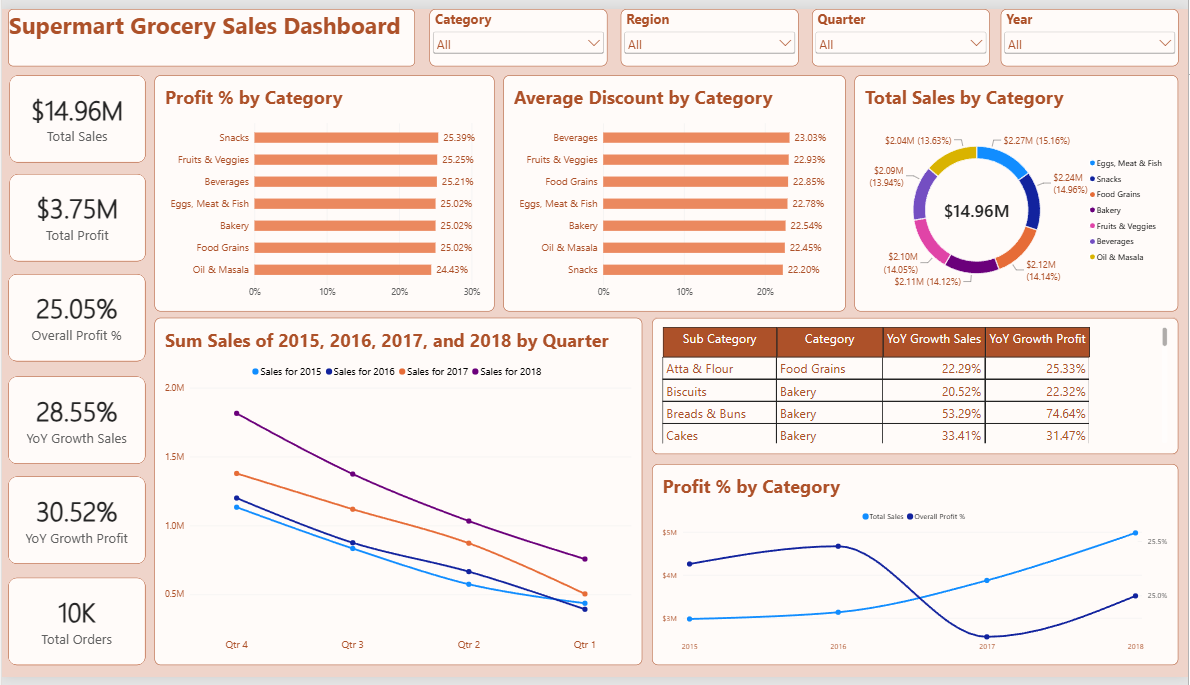

The dashboard page shown, as its layout file describes it:
{"tool":"powerbi","page":{"name":"Page 1","canvas":[1920,1080],"ordinal":0},"visuals":[{"type":"textbox","box":[10.3,0,658.7,92.6],"z":0},{"type":"slicer","fields":{"Values":["Sales.Region"]},"box":[1002.4,0,288.2,92.6],"z":1000},{"type":"slicer","fields":{"Values":["DimDate.Quarter"]},"box":[1311.2,0,288.2,92.6],"z":2000},{"type":"slicer","fields":{"Values":["DimDate.Year"]},"box":[1617.8,0,288.2,92.6],"z":3000},{"type":"slicer","fields":{"Values":["Sales.Category"]},"box":[691.6,0,288.2,92.6],"z":4000},{"type":"cardVisual","fields":{"Data":["Sales.Total Sales"]},"box":[12.1,107.3,220.6,141.7],"z":5000},{"type":"cardVisual","fields":{"Data":["Sales.Total Profit"]},"box":[12.1,267.1,220.6,141.7],"z":6000},{"type":"cardVisual","fields":{"Data":["Sales.Overall Profit %"]},"box":[10.1,429,222.6,141.7],"z":7000},{"type":"cardVisual","fields":{"Data":["Sales.YoY Growth Sales % (Card)"]},"box":[10.1,594.9,222.6,141.7],"z":8000},{"type":"cardVisual","fields":{"Data":["Sales.YoY Growth Profit % (Card)"]},"box":[10.1,756.8,222.6,141.7],"z":9000},{"type":"cardVisual","fields":{"Data":["Sales.Total Orders"]},"box":[10.1,920.7,222.6,141.7],"z":10000},{"type":"clusteredBarChart","title":"Profit % by Category","fields":{"Category":["Sales.Category"],"Y":["Sales.Overall Profit %"]},"box":[246.9,107.3,550.4,382.5],"z":12000},{"type":"clusteredBarChart","title":"Average Discount by Category","fields":{"Category":["Sales.Category"],"Y":["Sales.Avg Discount"]},"box":[811.5,107.3,554.5,382.5],"z":13000},{"type":"donutChart","title":"Total Sales by Category","fields":{"Category":["Sales.Category"],"Y":["Sales.Total Sales"]},"box":[1380.1,107.3,524.1,382.5],"z":14000},{"type":"lineChart","title":"Sum Sales of 2015, 2016, 2017,  and 2018 by Quarter","fields":{"Category":["DimDate.Quarter"],"Y":["Sales.Sales for 2015","Sales.Sales for 2016","Sales.Sales for 2017","Sales.Sales for 2018"]},"box":[246.9,499.8,789.2,562.6],"z":15000},{"type":"lineChart","title":"Profit % by Category","fields":{"Category":["DimDate.Year"],"Y":["Sales.Total Sales"],"Y2":["Sales.Overall Profit %"]},"box":[1052.3,736.6,851.9,325.8],"z":16000},{"type":"tableEx","title":"Profit % by Category","fields":{"Values":["Sales.Sub Category","Sales.Category","Sales.YoY Growth Sales","Sales.YoY Growth Profit"]},"box":[1052.3,499.8,851.9,220.6],"z":17000}]}

Visuals, with their boxes in screenshot pixels (x1, y1, x2, y2), scaled from the page's 1920x1080 canvas onto the 1190x685 screenshot:
textbox: <region>6, 0, 415, 59</region>
slicer - Sales.Region: <region>621, 0, 800, 59</region>
slicer - DimDate.Quarter: <region>813, 0, 991, 59</region>
slicer - DimDate.Year: <region>1003, 0, 1181, 59</region>
slicer - Sales.Category: <region>429, 0, 607, 59</region>
cardVisual - Sales.Total Sales: <region>7, 68, 144, 158</region>
cardVisual - Sales.Total Profit: <region>7, 169, 144, 259</region>
cardVisual - Sales.Overall Profit %: <region>6, 272, 144, 362</region>
cardVisual - Sales.YoY Growth Sales % (Card): <region>6, 377, 144, 467</region>
cardVisual - Sales.YoY Growth Profit % (Card): <region>6, 480, 144, 570</region>
cardVisual - Sales.Total Orders: <region>6, 584, 144, 674</region>
"Profit % by Category" clusteredBarChart: <region>153, 68, 494, 311</region>
"Average Discount by Category" clusteredBarChart: <region>503, 68, 847, 311</region>
"Total Sales by Category" donutChart: <region>855, 68, 1180, 311</region>
"Sum Sales of 2015, 2016, 2017,  and 2018 by Quarter" lineChart: <region>153, 317, 642, 674</region>
"Profit % by Category" lineChart: <region>652, 467, 1180, 674</region>
"Profit % by Category" tableEx: <region>652, 317, 1180, 457</region>
